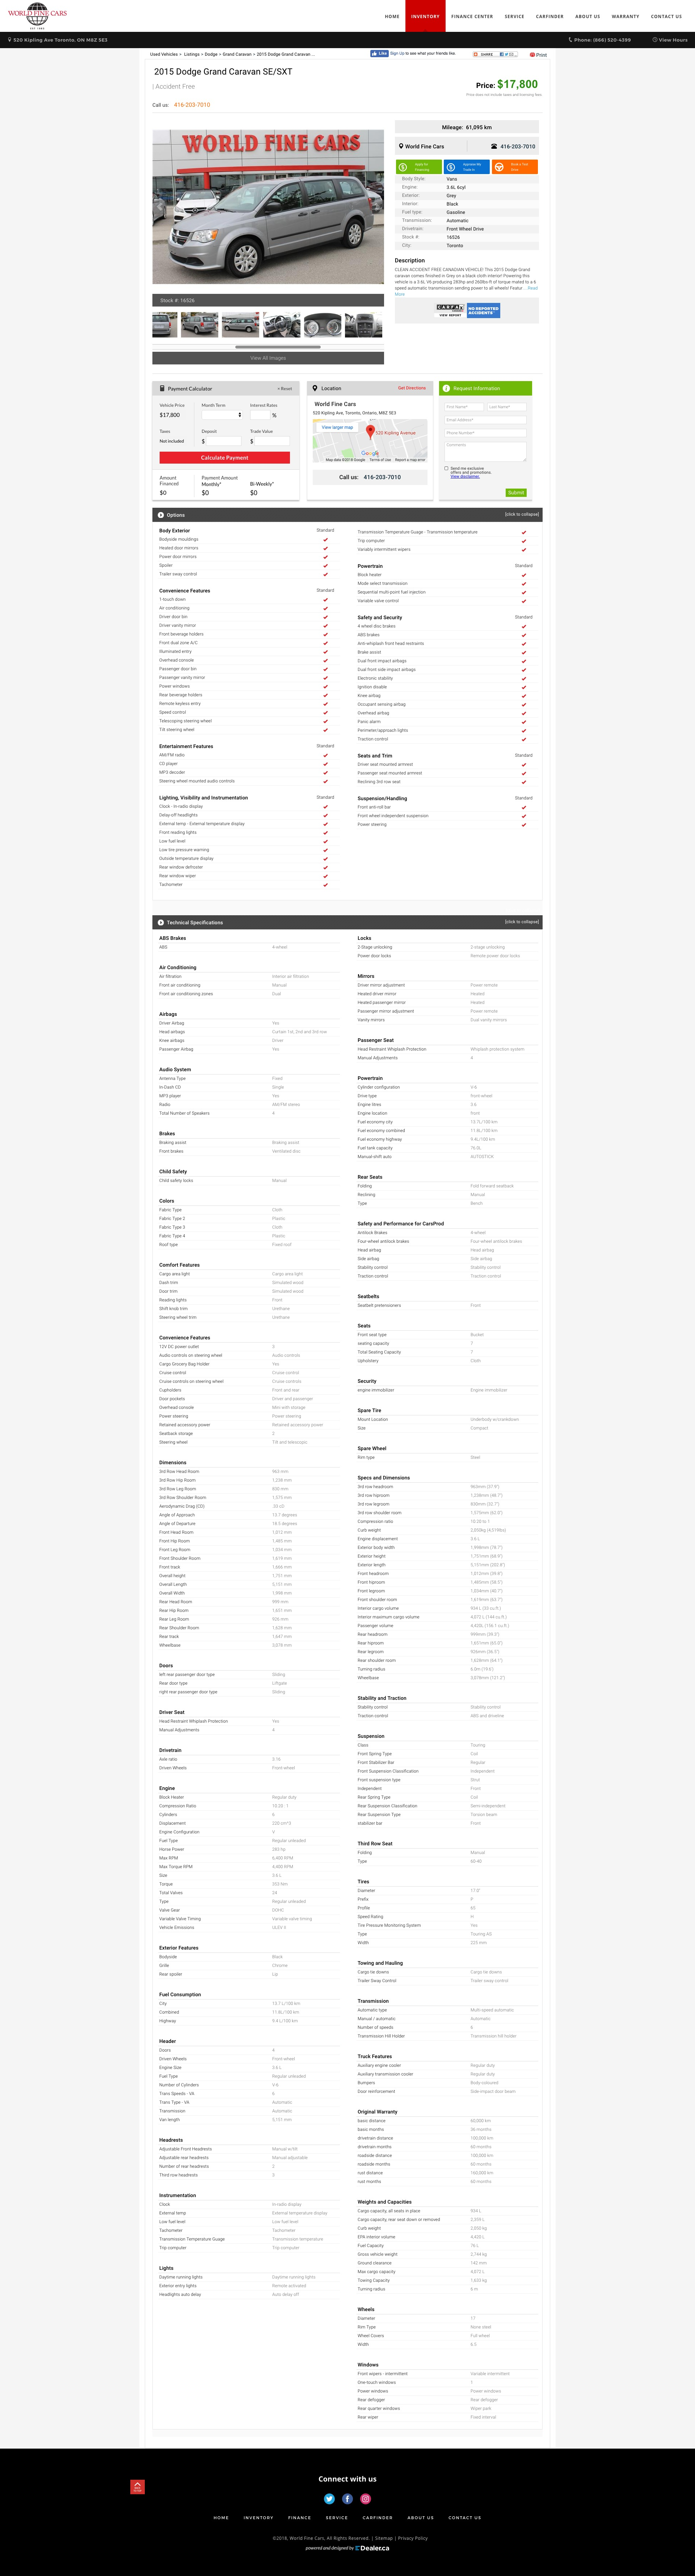car: (371, 199, 386, 215)
